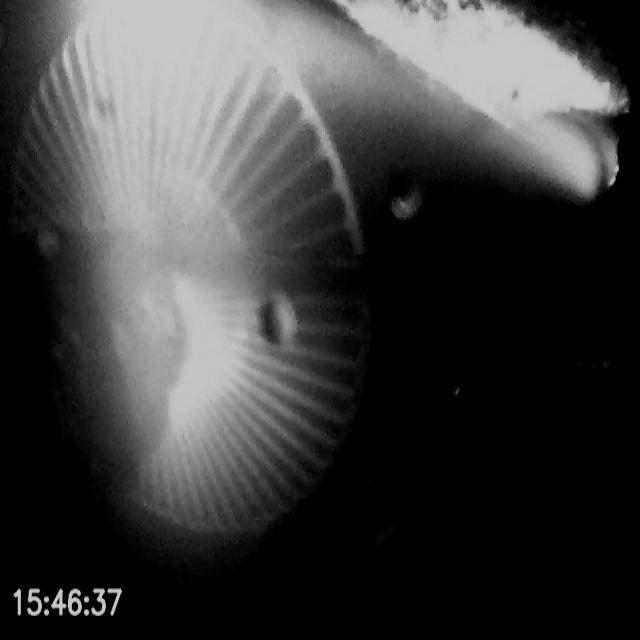white-dots: (544, 266, 640, 304)
